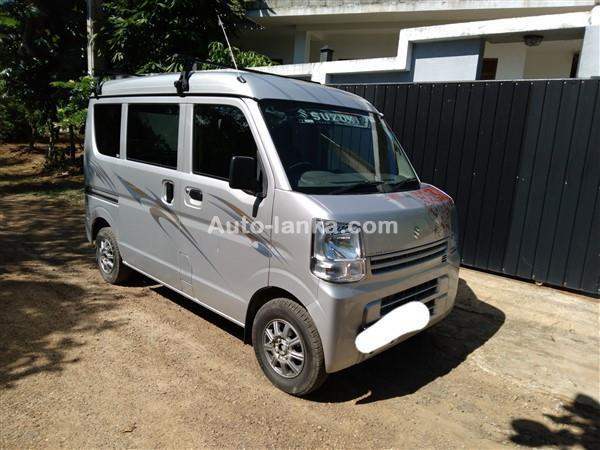car: (81, 68, 466, 401)
